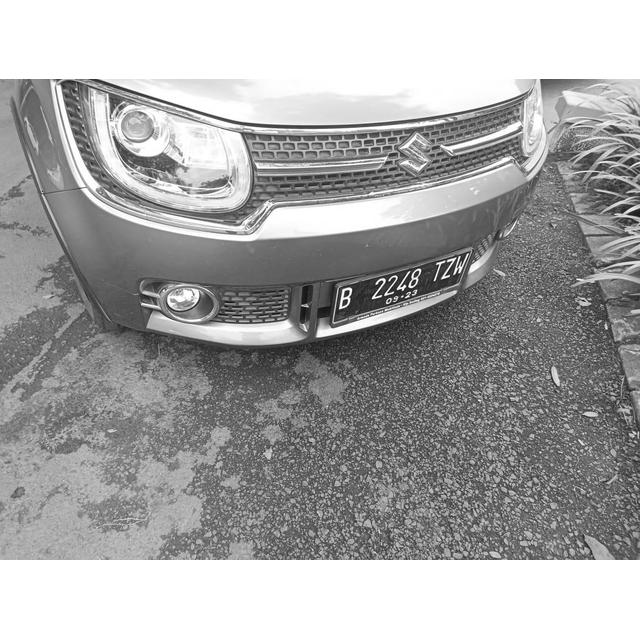license: (332, 250, 470, 308)
